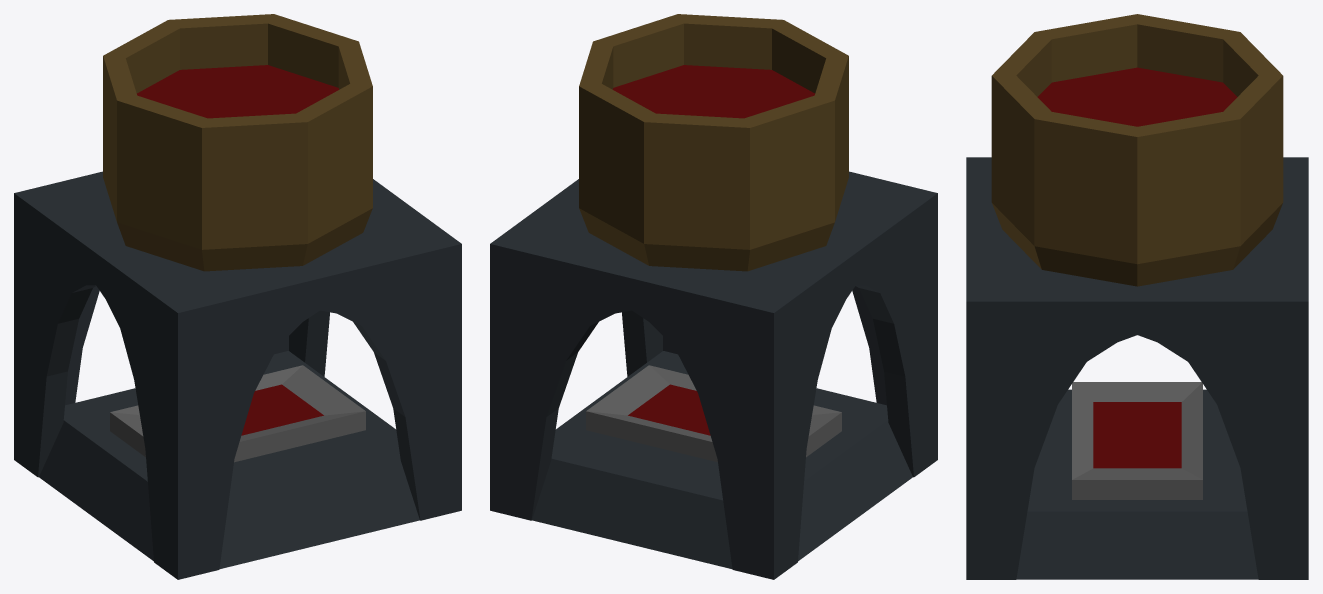
Rendered from EdificioSangre.fbx.
3 renders of one model, left to right at view 1: azimuth 30°, elevation 25°; view 2: azimuth 150°, elevation 25°; view 3: azimuth 270°, elevation 25°, orthographic. The views are drawn at different scales.
Visible parts, largest first — view 1: polySurface38; view 2: polySurface38; view 3: polySurface38.
Boxes of the visible parts, x1,y1,x2,y2 form: polySurface38: (14, 14, 461, 579); polySurface38: (490, 14, 937, 579); polySurface38: (966, 14, 1308, 579).
Bounding box in the file's own units: 3.12 × 4.35 × 3.12.
